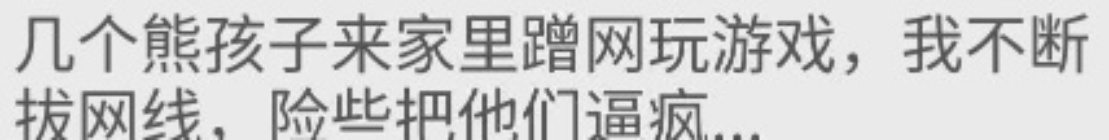TextView: (1, 1, 1108, 139)
